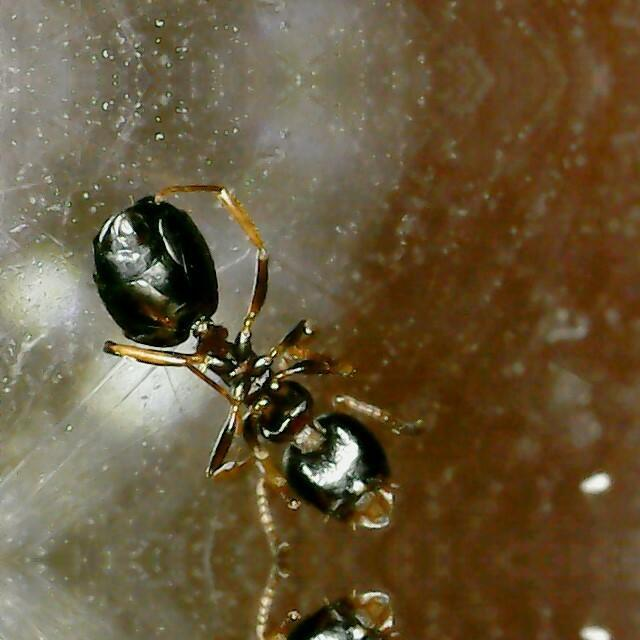Dolichoderus: (52, 172, 458, 536)
